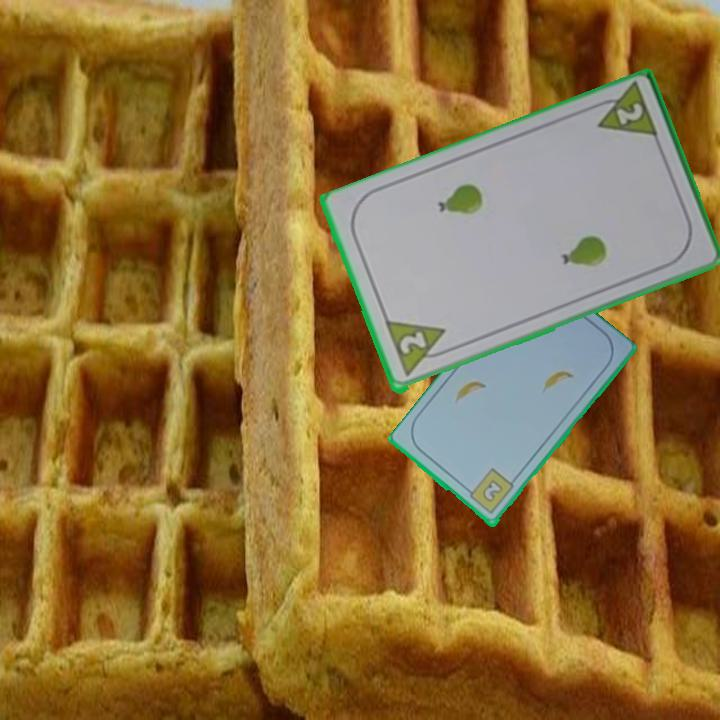2b: (462, 465, 517, 518)
2p: (395, 328, 429, 358), (612, 100, 646, 129)
